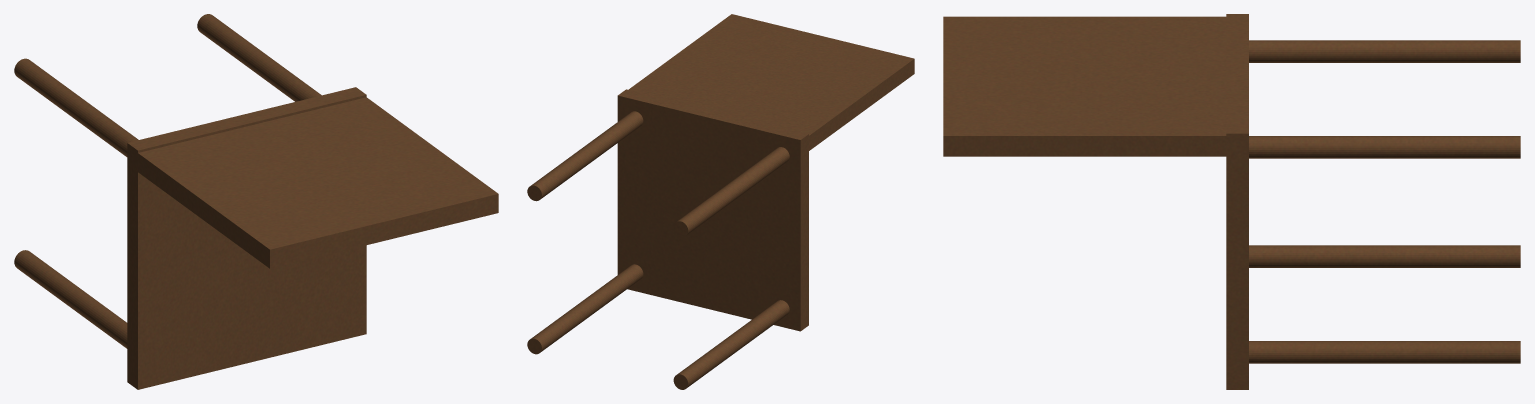
The model's file is sample_chair.glb.
The picture shows the model from 3 angles, left to right: view 1: azimuth 30°, elevation 25°; view 2: azimuth 150°, elevation 25°; view 3: azimuth 270°, elevation 25°; orthographic projection. The views are drawn at different scales.
Visible parts, largest first — view 1: geometry_0; view 2: geometry_0; view 3: geometry_0.
Part boxes in pixels (bbox=[...]): geometry_0: bbox=[14, 14, 498, 389]; geometry_0: bbox=[527, 14, 914, 389]; geometry_0: bbox=[943, 14, 1520, 389].
Bounding box in the file's own units: 1 × 1 × 2.04.
1 material, 1 textured.
